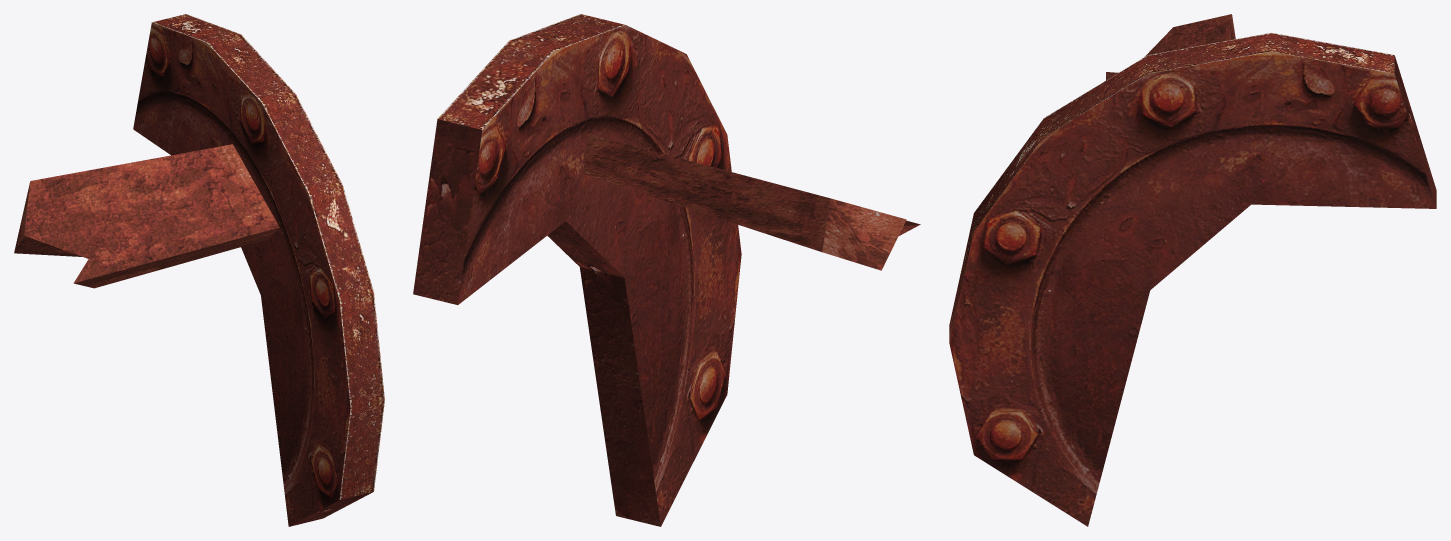
The model's file is valve_broken02_red.DAE.
The picture shows the model from 3 angles, left to right: view 1: azimuth 30°, elevation 25°; view 2: azimuth 150°, elevation 25°; view 3: azimuth 270°, elevation 25°; orthographic projection. The views are drawn at different scales.
Visible parts, largest first — view 1: Object524, Object525; view 2: Object524, Object525; view 3: Object524, Object525.
Part boxes in pixels (<box>): Object524: <box>133,14,384,526</box>; Object525: <box>14,144,279,288</box>; Object524: <box>413,14,741,526</box>; Object525: <box>583,134,920,270</box>; Object524: <box>949,33,1436,526</box>; Object525: <box>1106,14,1235,80</box>.
Bounding box in the file's own units: 0.3441 × 0.4966 × 0.5346.
